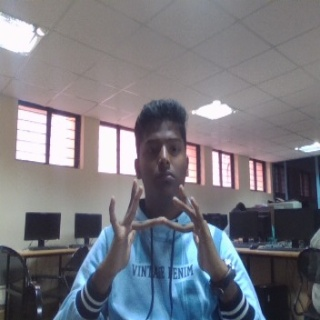Internet: (97, 177, 224, 275)
